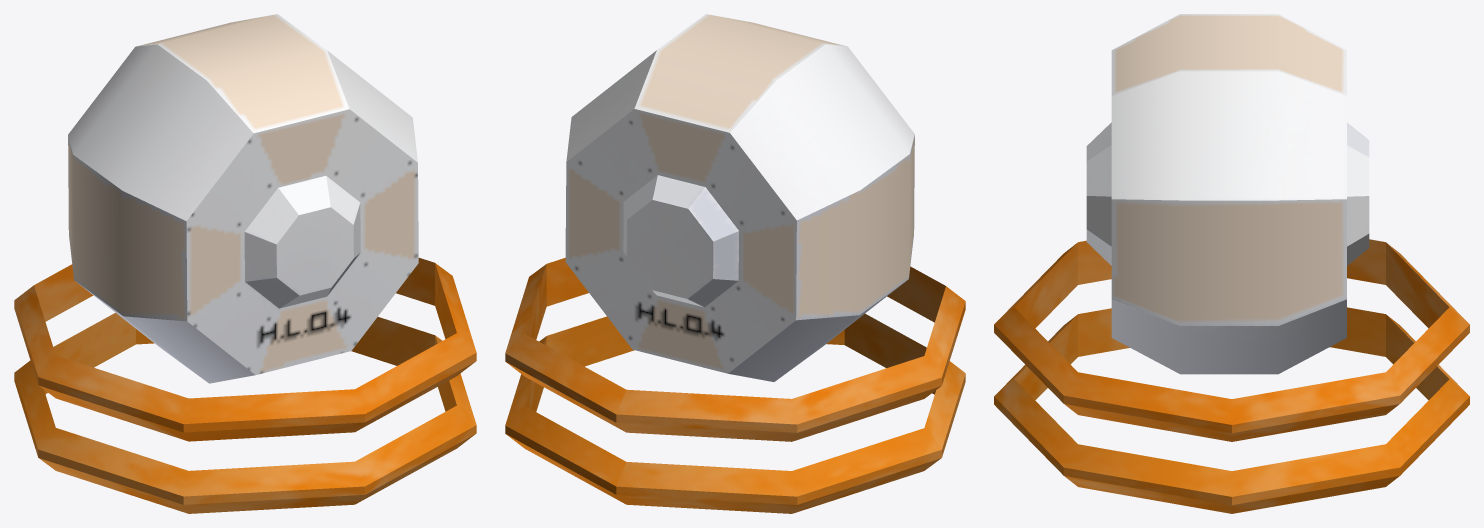
The model's file is Hull_04.fbx.
The picture shows the model from 3 angles, left to right: view 1: azimuth 30°, elevation 25°; view 2: azimuth 150°, elevation 25°; view 3: azimuth 270°, elevation 25°; orthographic projection.
Parts seen in each view (by area): view 1: Hull_04; view 2: Hull_04; view 3: Hull_04.
Boxes of the visible parts, x1=… form: Hull_04: x1=14, y1=14, x2=476, y2=513; Hull_04: x1=505, y1=14, x2=965, y2=513; Hull_04: x1=994, y1=14, x2=1469, y2=513.
Bounding box in the file's own units: 17.1 × 14.98 × 17.1.
